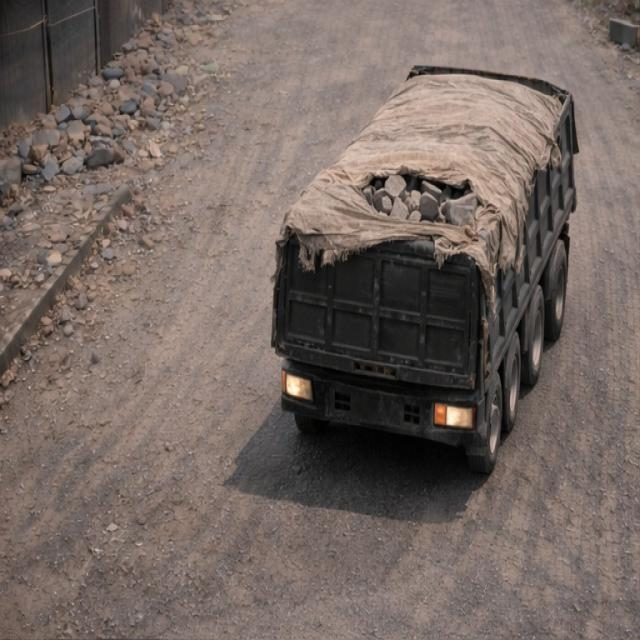Box: (285, 62, 571, 268)
